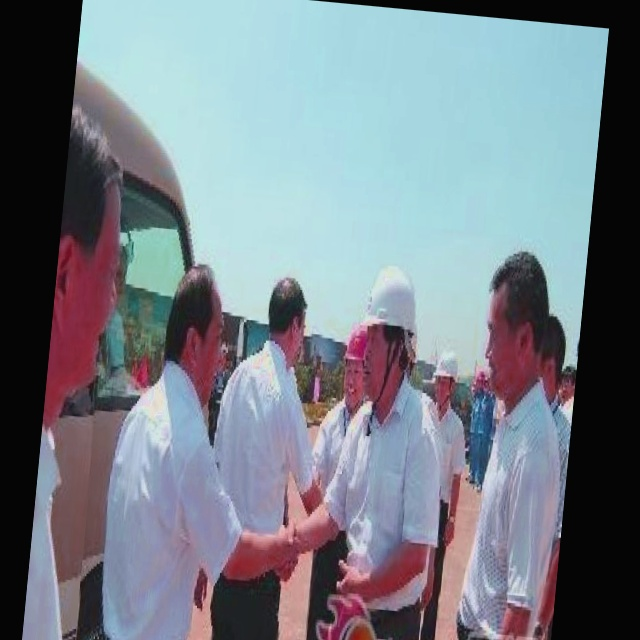Con_Casco: (359, 265, 422, 392)
Sin_Casco_Mascarrilla: (165, 259, 230, 394), (265, 274, 312, 364)
